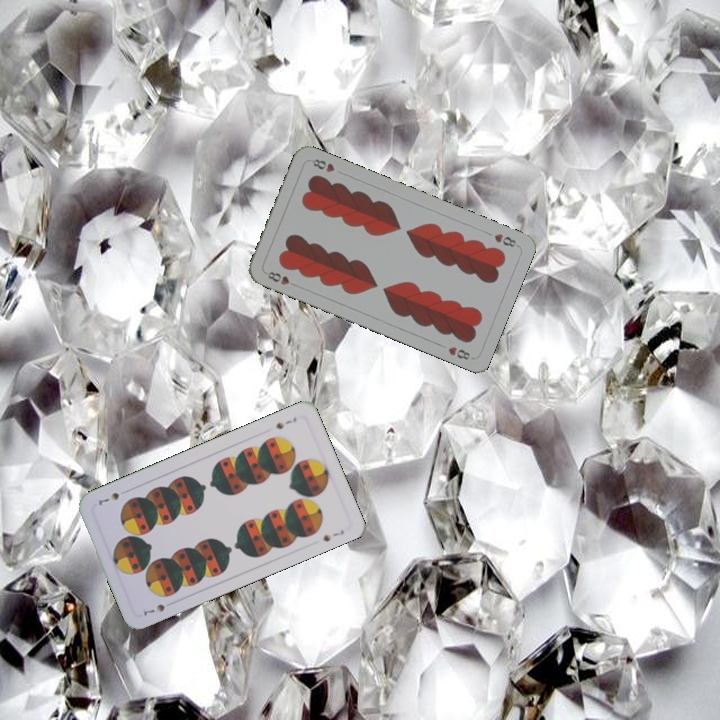H8: (490, 229, 520, 250), (264, 267, 292, 288)
S7: (139, 600, 168, 618), (272, 413, 299, 432)
